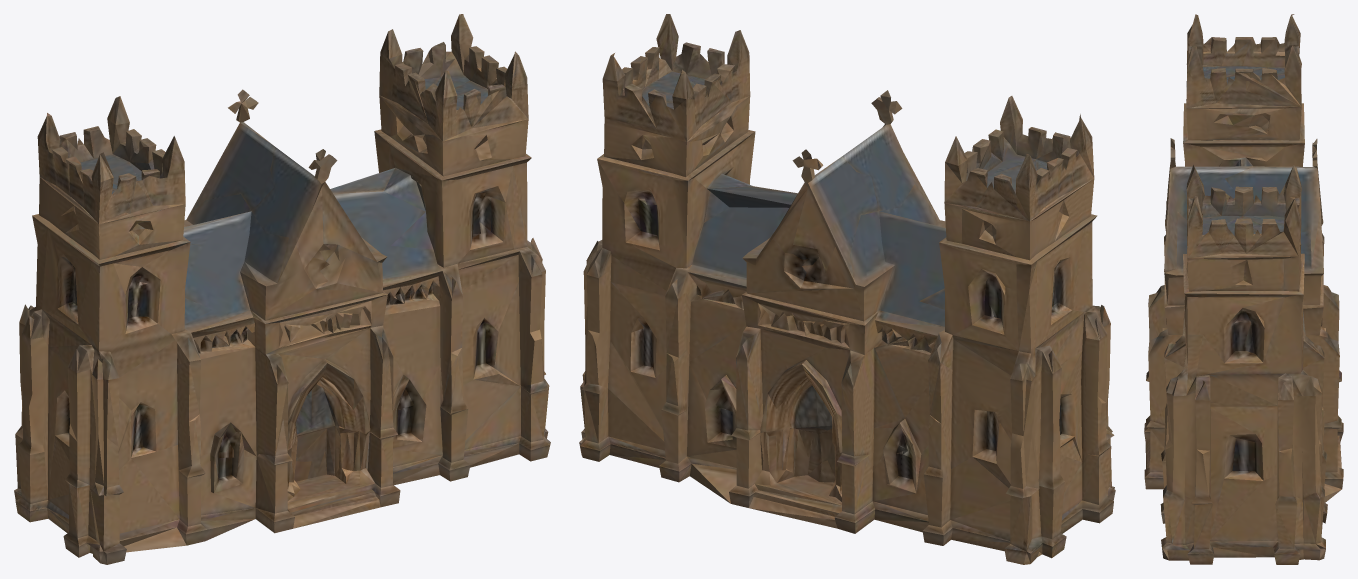
Rendered from cathedral.glb.
3 views of the same model, side by side, from view 1: azimuth 30°, elevation 25°; view 2: azimuth 150°, elevation 25°; view 3: azimuth 270°, elevation 25° (orthographic). The views are drawn at different scales.
Bounding box in the file's own units: 1.9 × 1.53 × 0.7723.
1 material, 1 textured.
